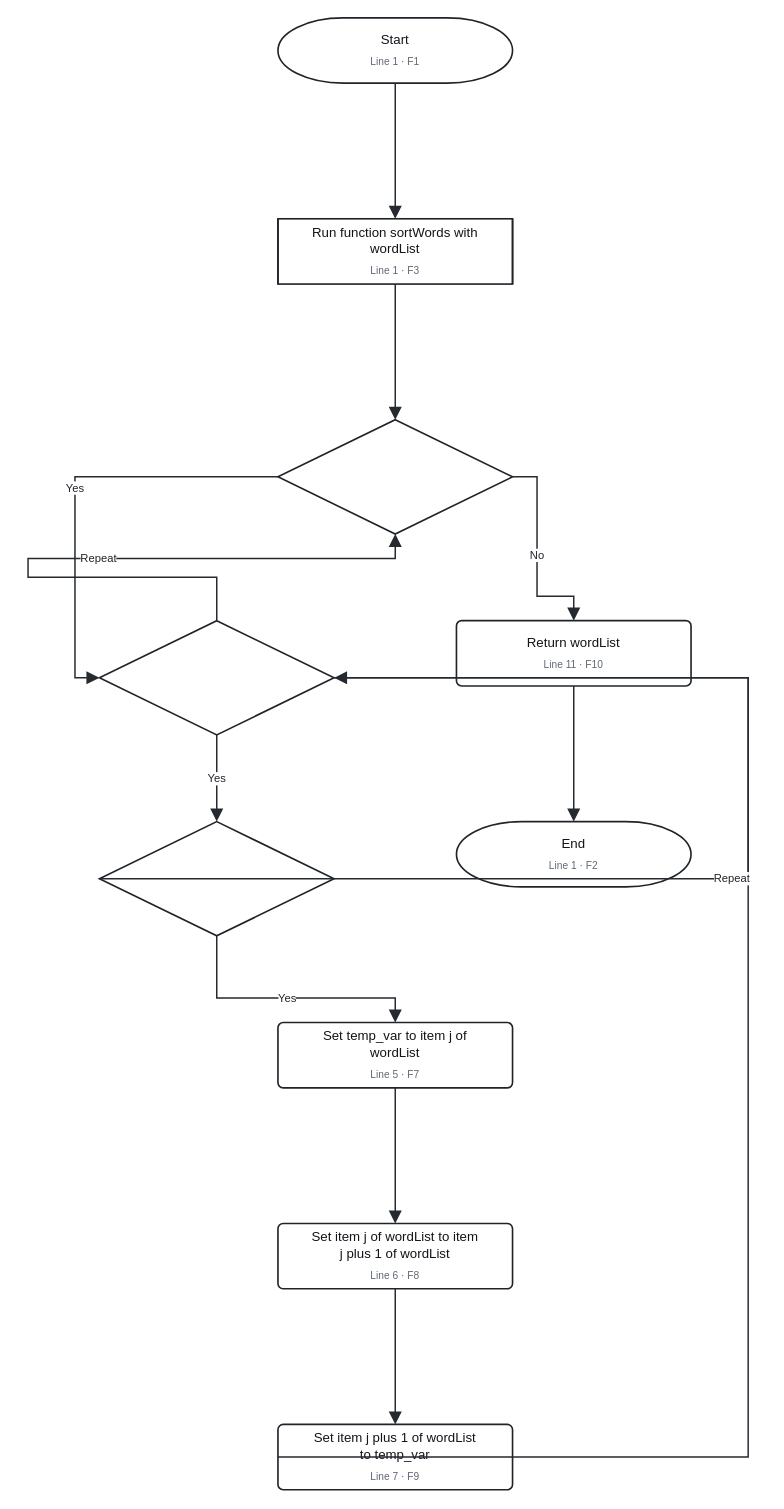
This 784x1509 diagram has some shape labels left out. Here are the shapes that lost their labels. From the top down, the centre of each, then its label:
the point at 395,476: For i from 0 to the length of wordList minus 2 plus 1 Line 2 · F4
the point at 216,677: For j from 0 to the length of wordList minus i minus 2 plus 1 Line 3 · F5
the point at 216,878: Item j of wordList is greater than item j plus 1 of wordList? Line 4 · F6
